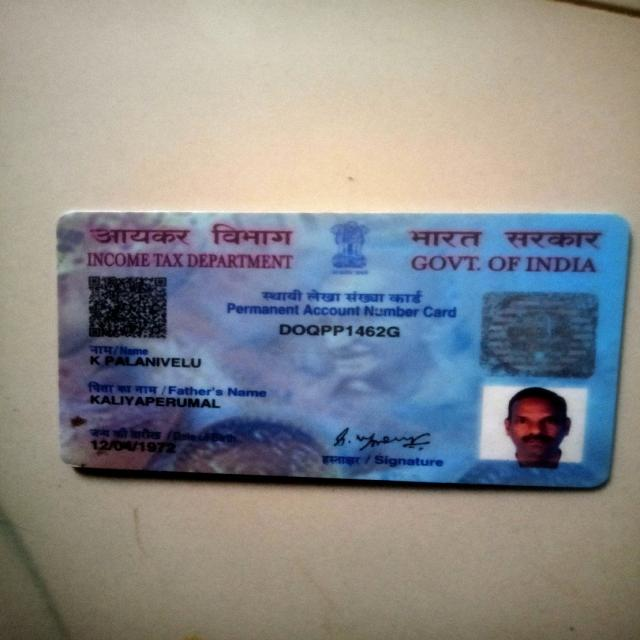pan_card: (53, 209, 629, 486)
